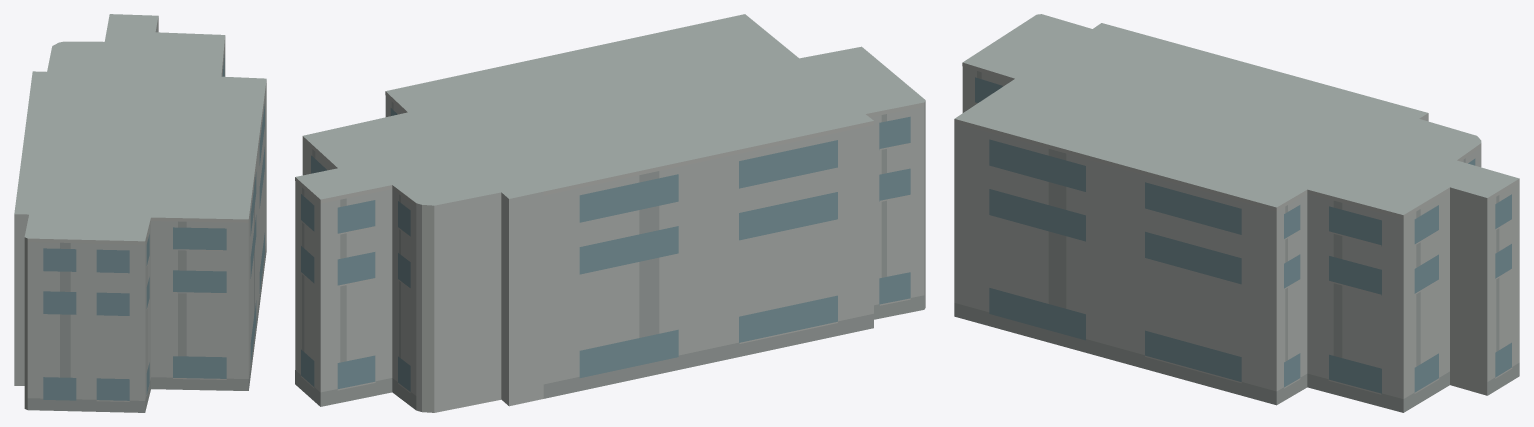
The model's file is survey-upis-32516498.glb.
3 renders of one model, left to right at view 1: azimuth 30°, elevation 25°; view 2: azimuth 150°, elevation 25°; view 3: azimuth 270°, elevation 25°, orthographic. The views are drawn at different scales.
Visible parts, largest first — view 1: survey-upis-32516498.tmp; view 2: survey-upis-32516498.tmp; view 3: survey-upis-32516498.tmp.
Boxes of the visible parts, x1=… form: survey-upis-32516498.tmp: x1=14, y1=14, x2=266, y2=412; survey-upis-32516498.tmp: x1=295, y1=14, x2=925, y2=412; survey-upis-32516498.tmp: x1=954, y1=14, x2=1519, y2=412.
Size of the model in its own units: 26.62 by 12.2 by 31.61.
